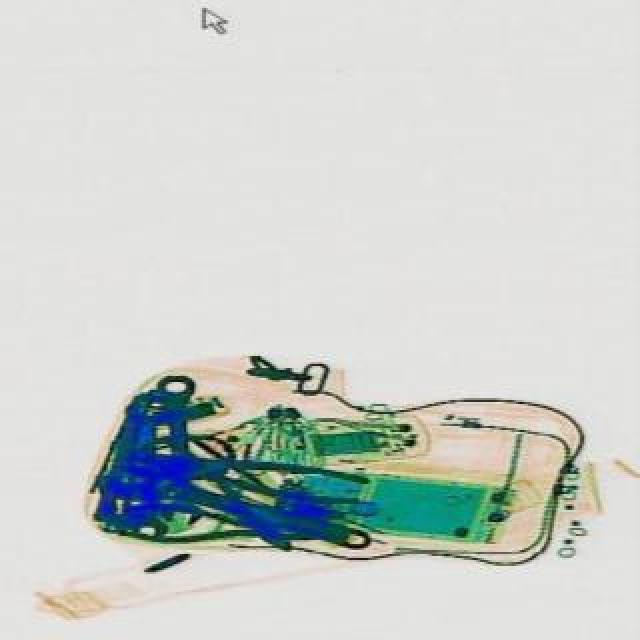scissors: (92, 438, 376, 564), (154, 374, 198, 524), (122, 402, 166, 540)
wrench: (168, 446, 368, 506)
